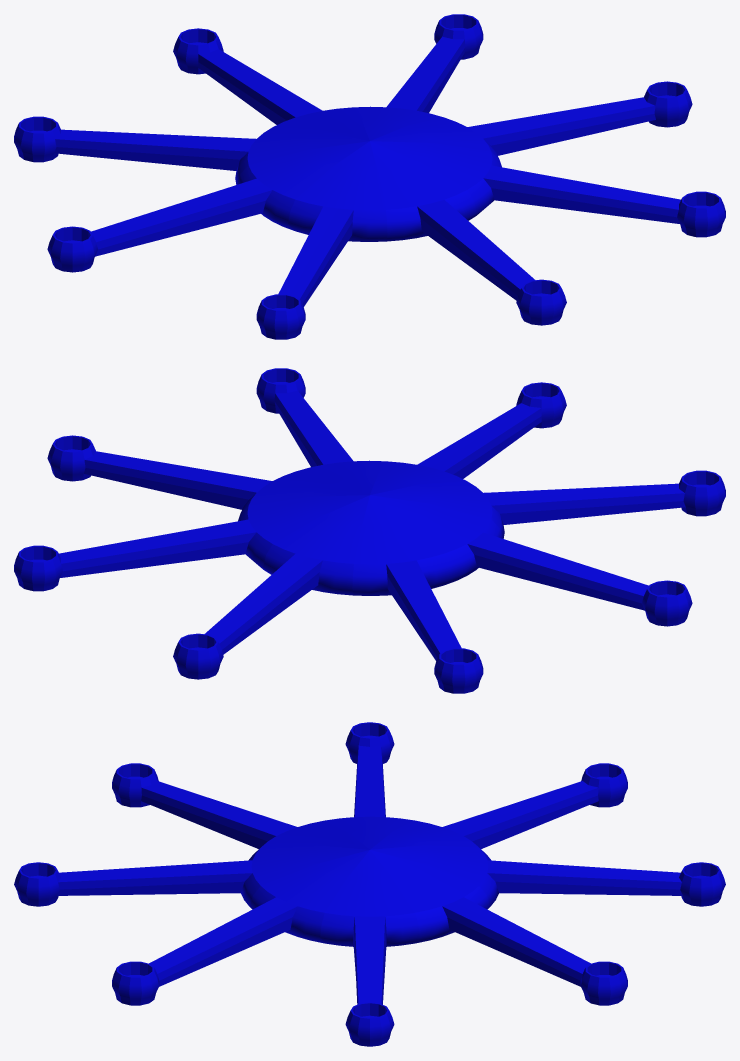
Rendered from body8_21.fbx.
3 views of the same model, one above another, from view 1: azimuth 30°, elevation 25°; view 2: azimuth 150°, elevation 25°; view 3: azimuth 270°, elevation 25° (orthographic). The views are drawn at different scales.
Parts seen in each view (by area): view 1: pCylinder278; view 2: pCylinder278; view 3: pCylinder278.
Boxes of the visible parts, bbox=[...] form: pCylinder278: bbox=[14, 14, 725, 339]; pCylinder278: bbox=[14, 368, 725, 693]; pCylinder278: bbox=[14, 722, 725, 1046].
Size of the model in its own units: 36.48 by 2.75 by 36.48.
